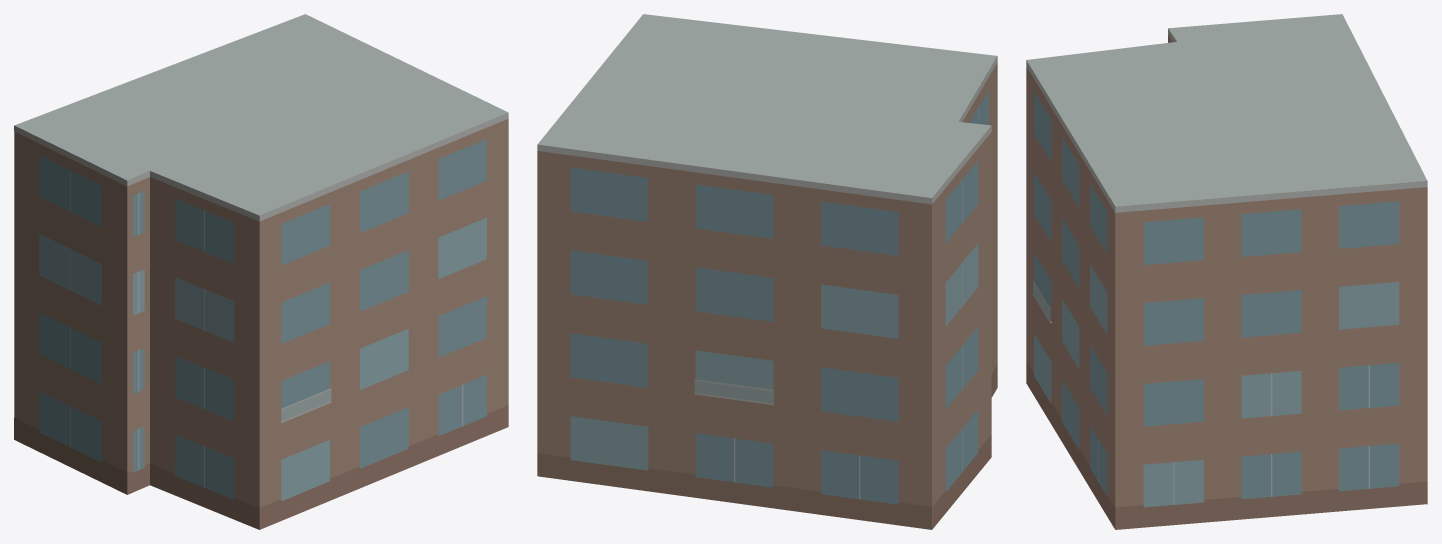
Rendered from survey-upis-32616211.glb.
The picture shows the model from 3 angles, left to right: view 1: azimuth 30°, elevation 25°; view 2: azimuth 150°, elevation 25°; view 3: azimuth 270°, elevation 25°; orthographic projection. The views are drawn at different scales.
Parts seen in each view (by area): view 1: survey-upis-32616211.tmp; view 2: survey-upis-32616211.tmp; view 3: survey-upis-32616211.tmp.
Part boxes in pixels (x1,y1,x2,y2): survey-upis-32616211.tmp: (14, 14, 508, 529); survey-upis-32616211.tmp: (537, 14, 997, 529); survey-upis-32616211.tmp: (1026, 14, 1427, 529).
Size of the model in its own units: 16.38 by 12.8 by 14.41.
